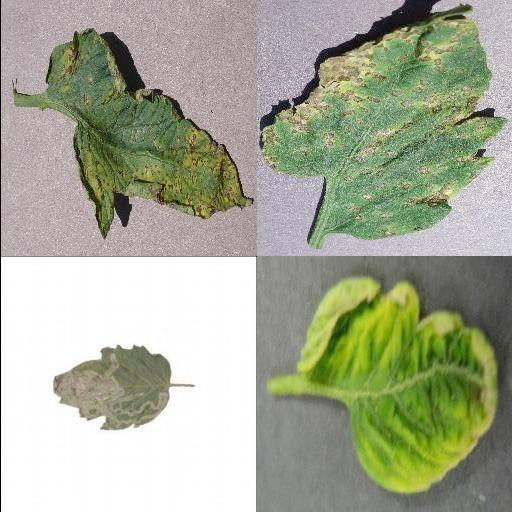Leaf Miner: (51, 344, 171, 433)
Septoria: (261, 5, 508, 239), (45, 30, 253, 238)
Yellow Leaf Curl Virus: (295, 276, 499, 494)
